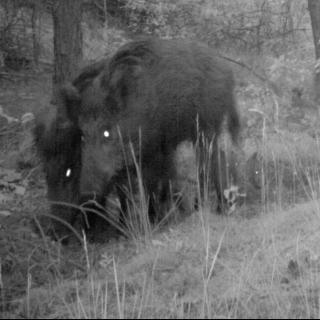Pig: (80, 54, 246, 215), (17, 108, 92, 244)
